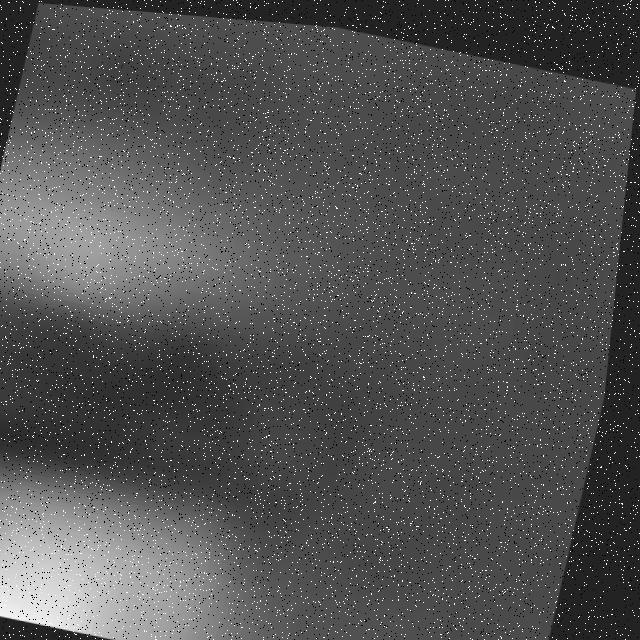person: (1, 99, 324, 358), (1, 464, 324, 640)
